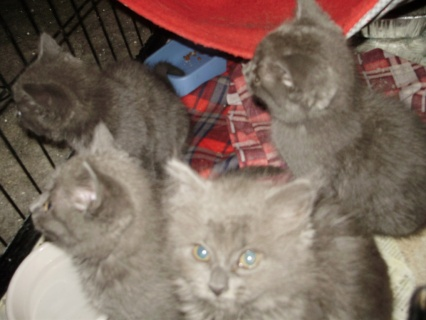Cat: (240, 0, 426, 240), (165, 160, 394, 319), (24, 122, 165, 319), (2, 33, 190, 162)
